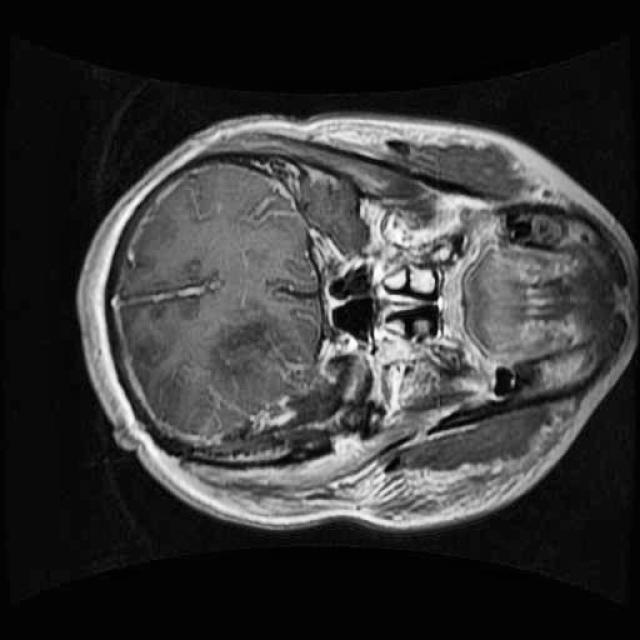Tumor: (209, 352, 380, 451)
